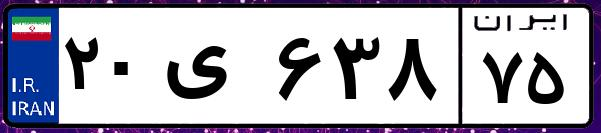0: (110, 28, 158, 98)
2: (57, 26, 110, 100)
3: (330, 28, 385, 110)
5: (525, 38, 570, 115)
6: (270, 28, 330, 110)
7: (475, 38, 525, 113)
8: (385, 28, 445, 110)
ی: (158, 20, 270, 120)
